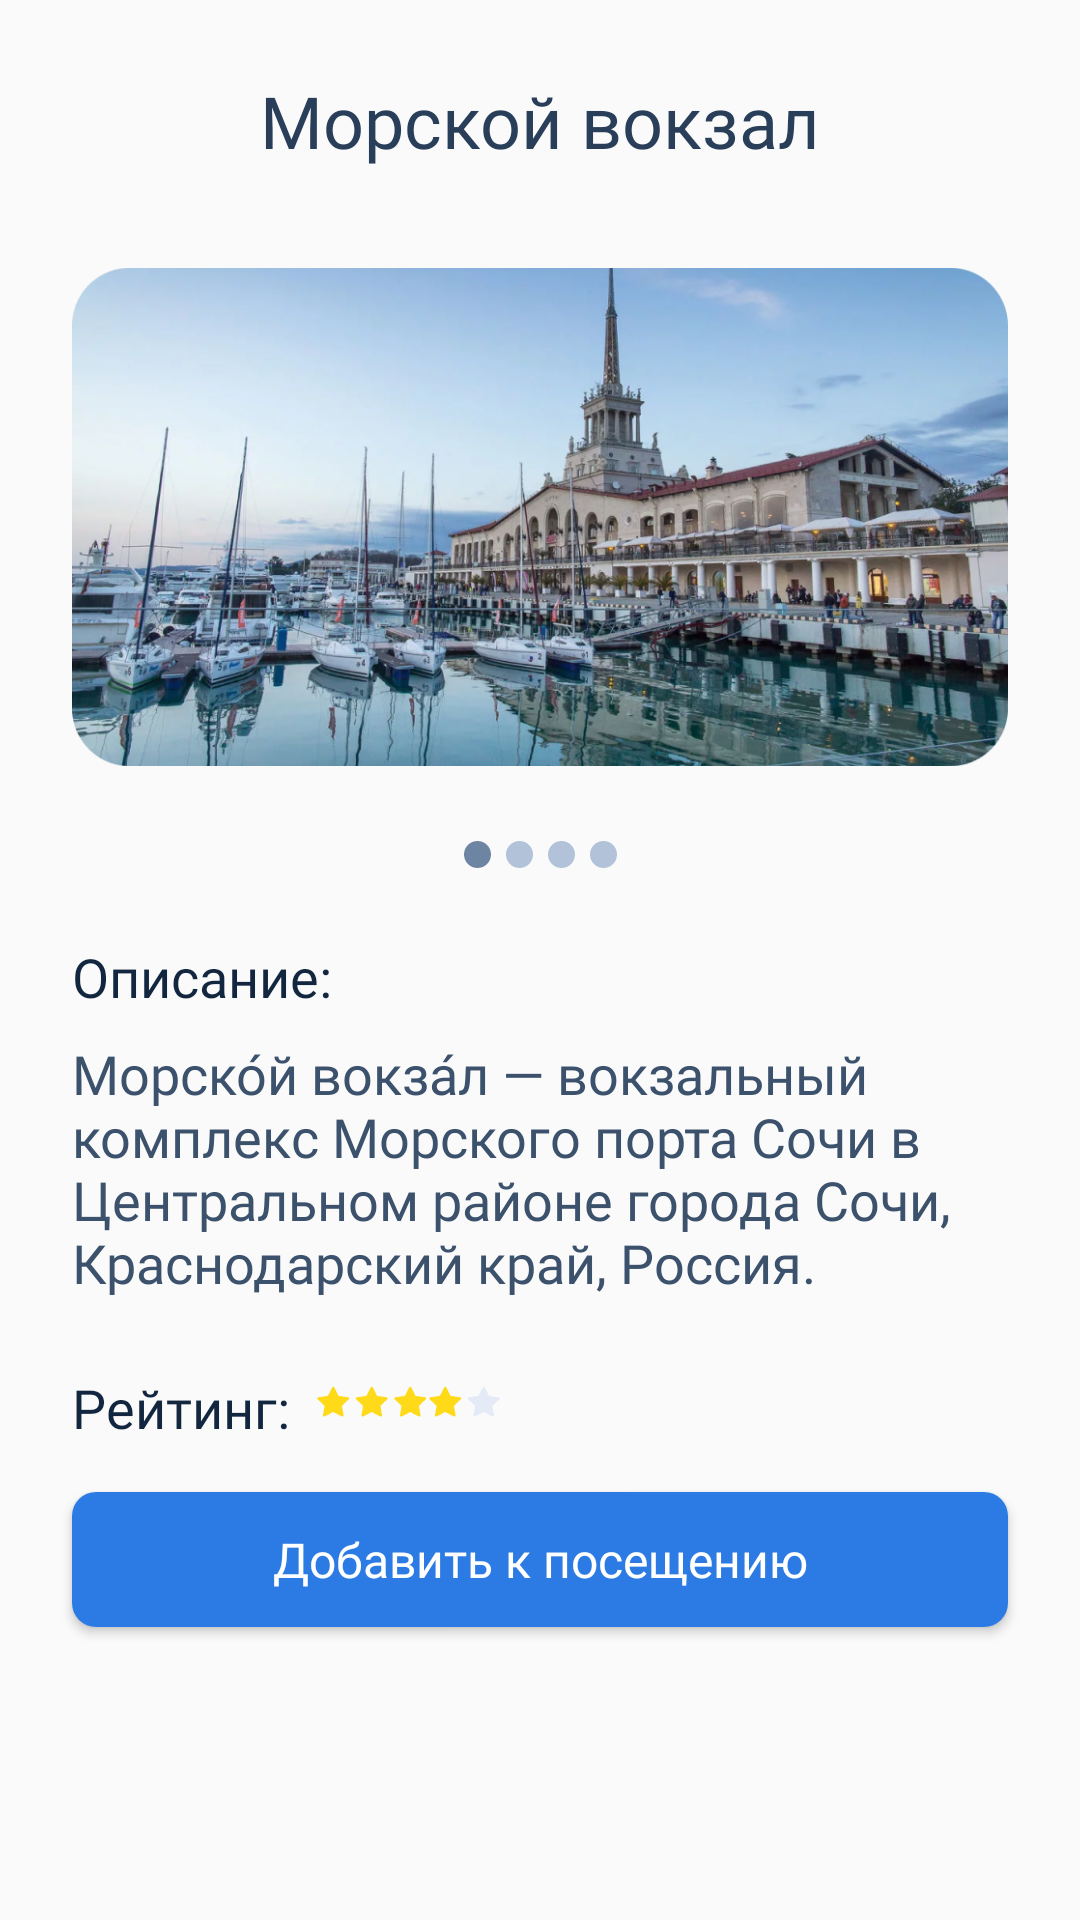

Locate icon controls on the screen. Image size 1080w x 1920h, boxes as {"x1": x1, "y1": y1, "x2": x2, "y2": y2}.
star: {"x1": 317, "y1": 1386, "x2": 462, "y2": 1417}
